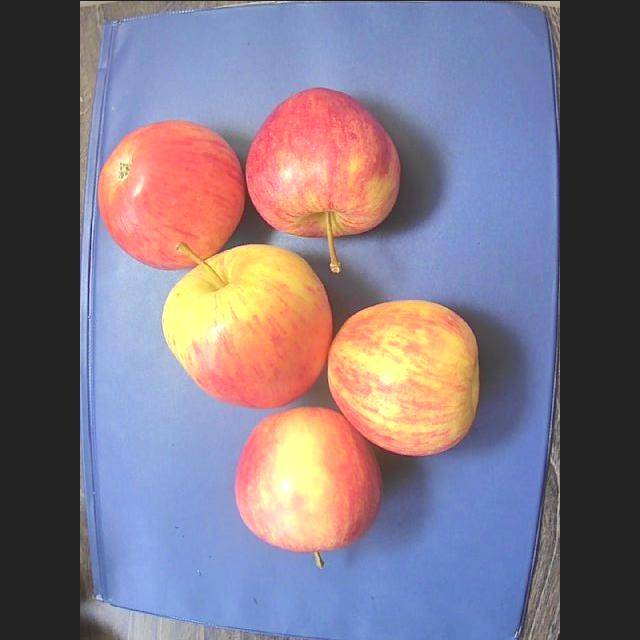manzana: (246, 87, 400, 271), (162, 242, 332, 407), (328, 299, 479, 453), (235, 405, 380, 559), (98, 120, 244, 268)
